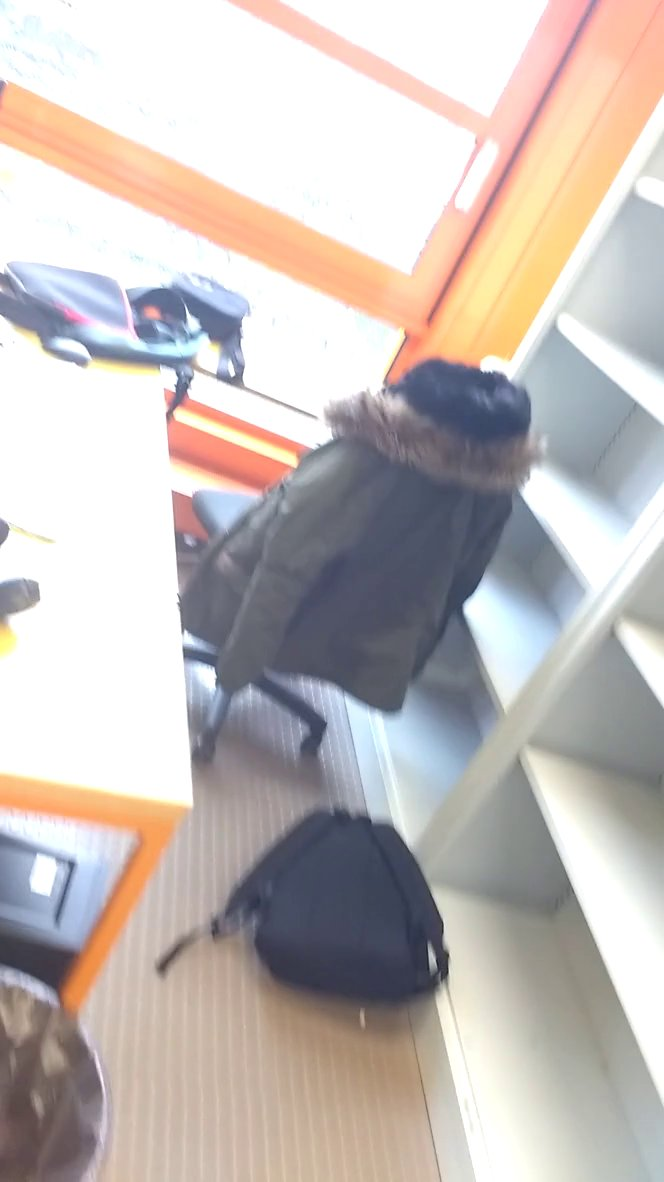bag: (197, 774, 470, 1014)
